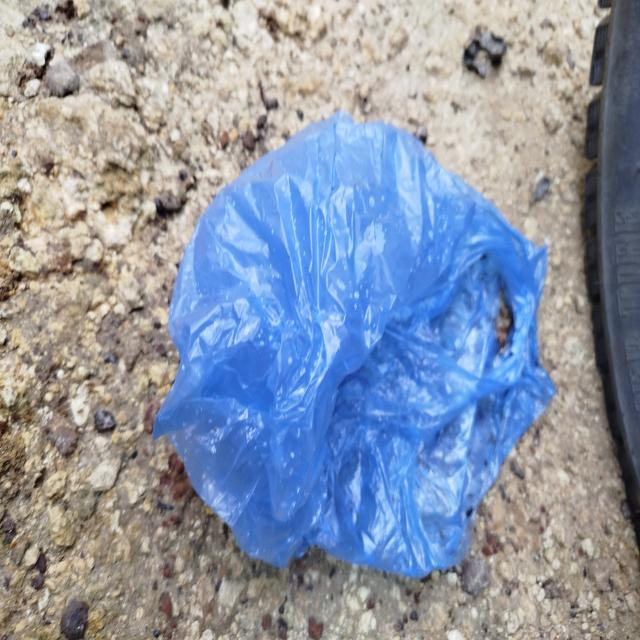residual: (134, 106, 565, 584)
